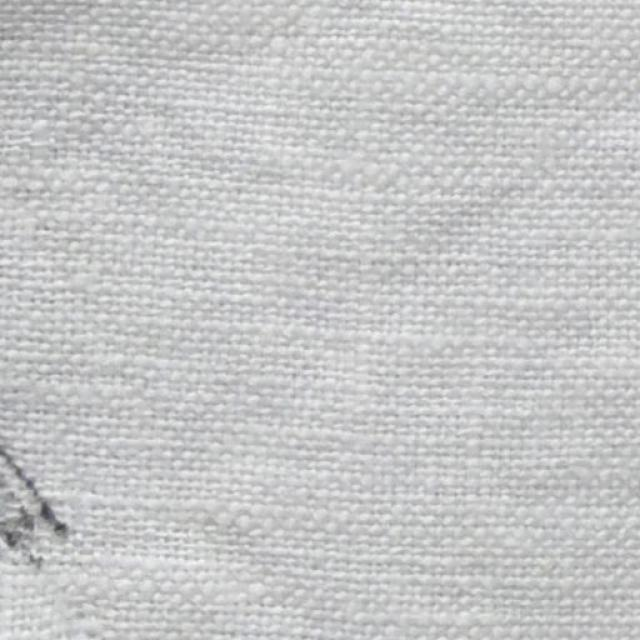Stain: (0, 429, 55, 578)
